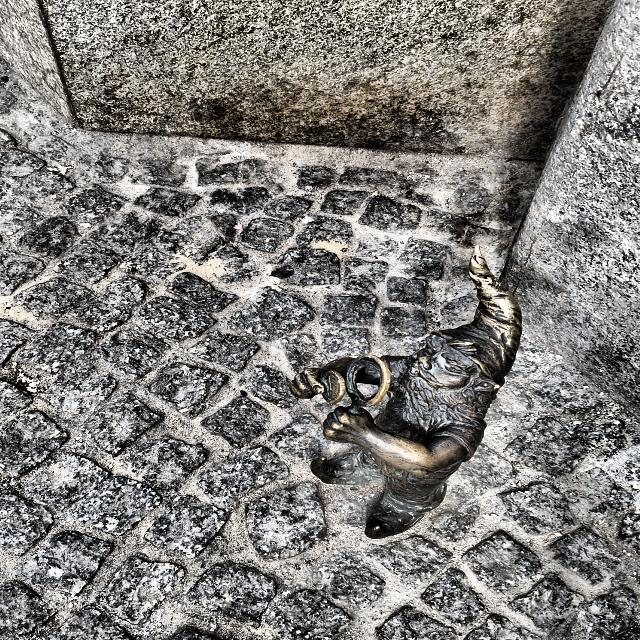Kolekcjoner: (290, 246, 522, 539)
